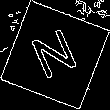N_SE: (26, 24, 84, 86)
